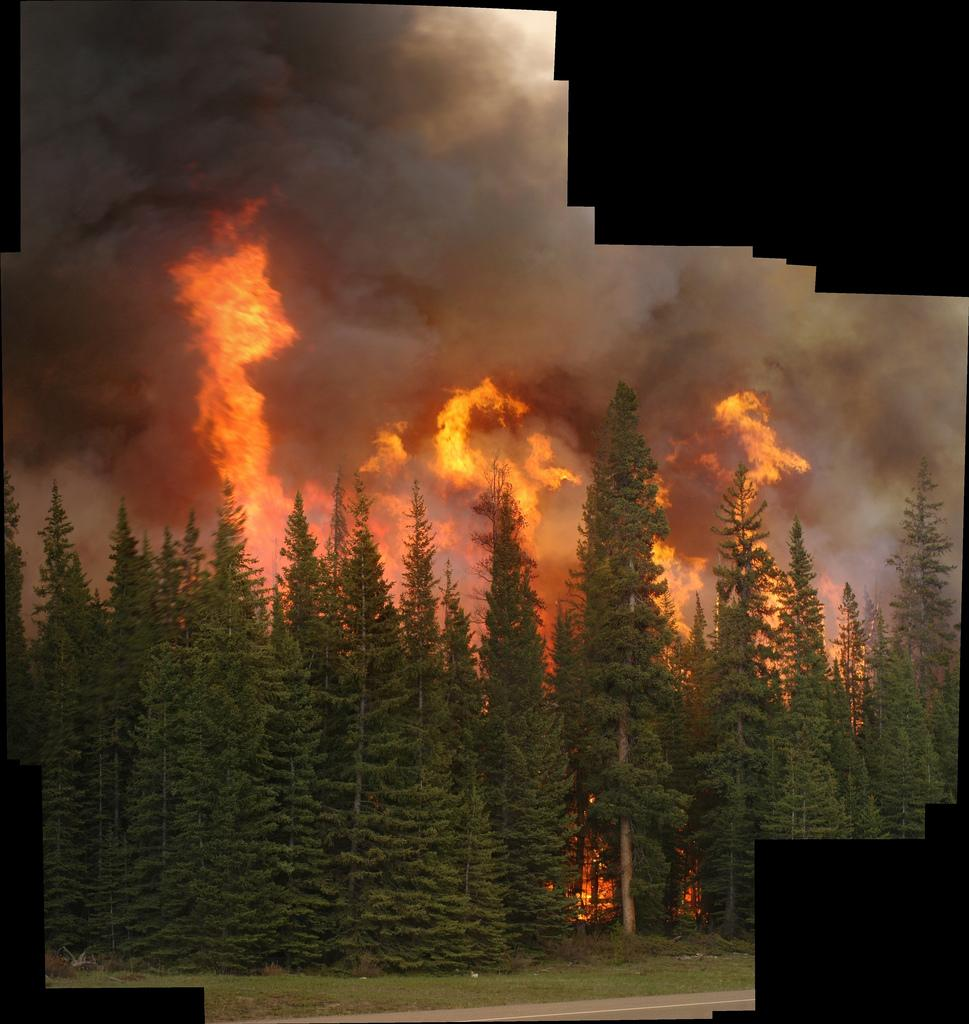fire: (200, 235, 285, 498), (422, 385, 582, 500), (658, 402, 788, 528)
smoke: (350, 80, 532, 358), (98, 32, 258, 185)
